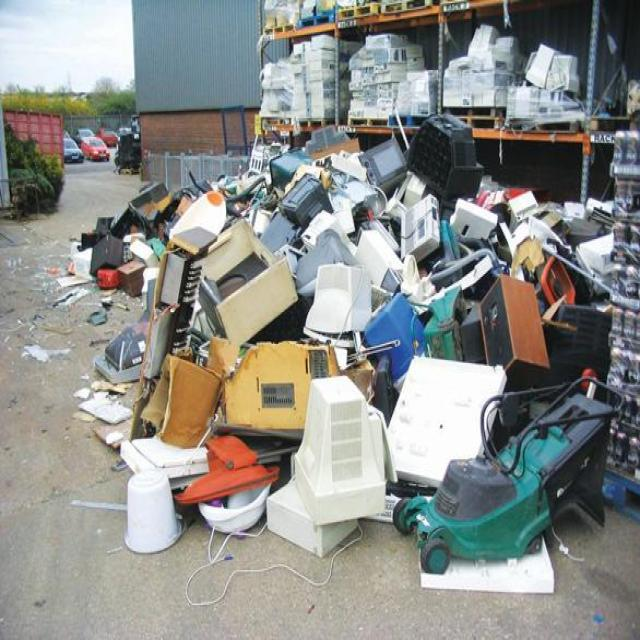garbage: (78, 128, 640, 594)
